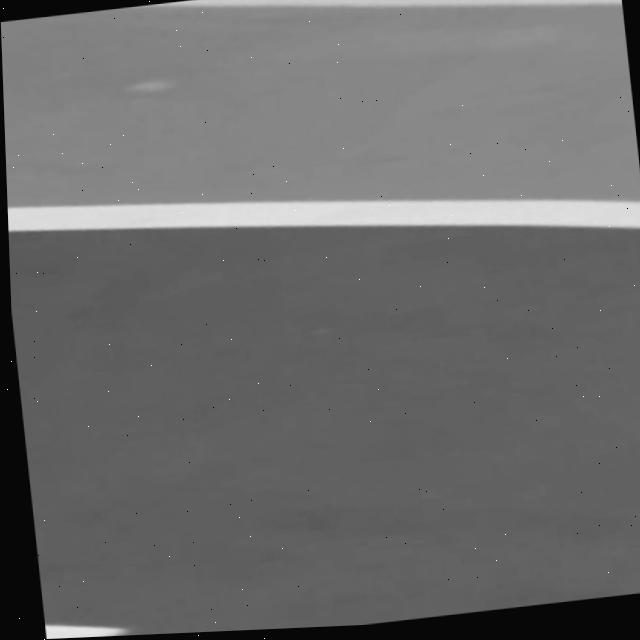center: (44, 625, 128, 639)
right: (8, 201, 640, 232)
